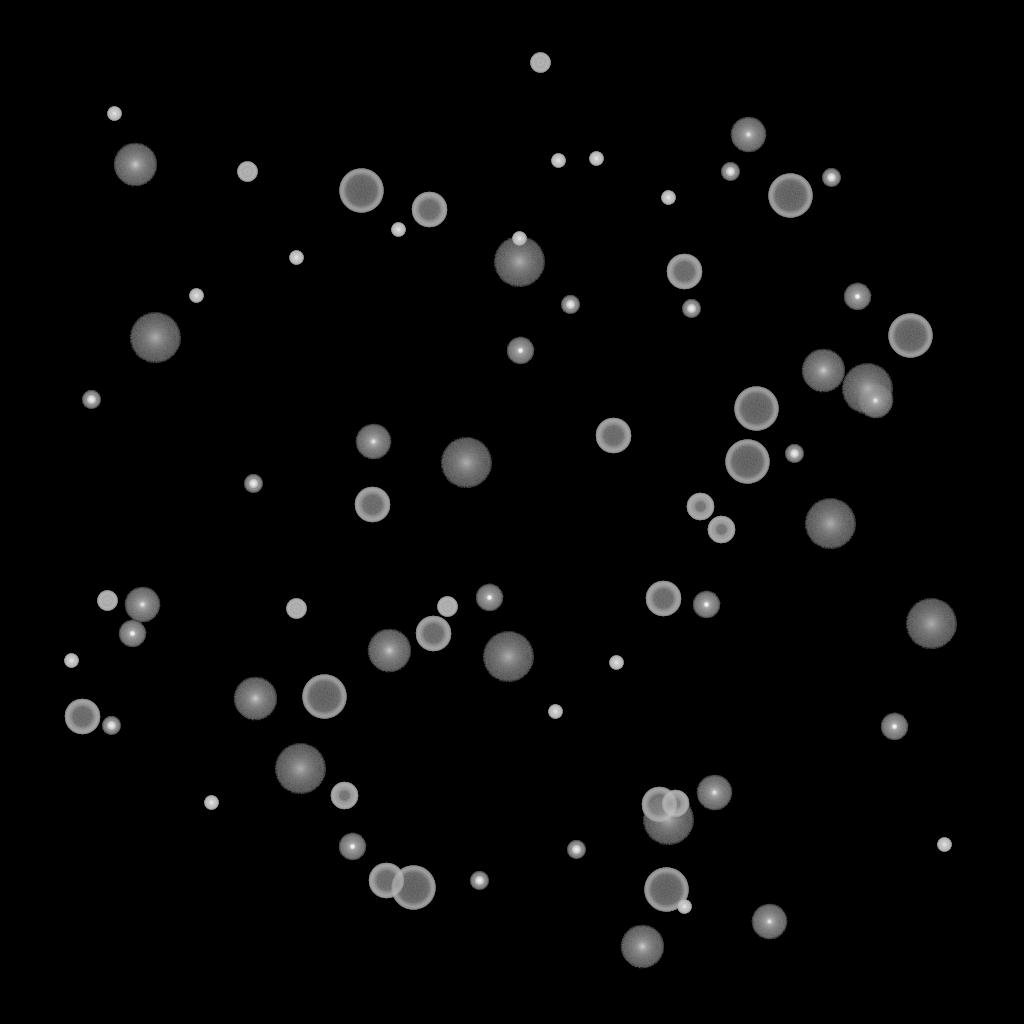depth:-10: (338, 833, 366, 861), (843, 283, 871, 311), (880, 713, 908, 741), (506, 337, 534, 365), (118, 620, 146, 648), (475, 584, 503, 612), (692, 591, 720, 619)
depth:-20: (561, 296, 579, 314), (82, 391, 100, 409), (822, 169, 840, 187), (682, 300, 700, 318), (244, 475, 262, 493), (721, 163, 739, 181), (470, 872, 488, 890), (785, 445, 803, 463), (102, 717, 120, 735), (567, 841, 585, 859)
depth:-30: (204, 796, 218, 810), (551, 154, 565, 168), (677, 900, 691, 914), (548, 705, 562, 719), (107, 107, 121, 121), (512, 232, 526, 246), (937, 838, 951, 852), (589, 152, 603, 166), (391, 223, 405, 237), (64, 654, 78, 668), (661, 191, 675, 205), (189, 289, 203, 303), (289, 251, 303, 265), (609, 656, 623, 670)
depth:-40: (286, 599, 306, 619), (437, 597, 457, 617), (530, 53, 550, 73), (237, 162, 257, 182), (97, 591, 117, 611)
depth:-50: (661, 790, 689, 818), (707, 516, 735, 544), (330, 782, 358, 810), (686, 493, 714, 521)
depth:-60: (595, 418, 631, 454), (411, 192, 447, 228), (645, 581, 681, 617), (368, 863, 404, 899), (64, 699, 100, 735), (415, 616, 451, 652), (666, 254, 702, 290), (641, 787, 677, 823), (354, 487, 390, 523)
depth:-70: (391, 866, 435, 910), (725, 440, 769, 484), (339, 169, 383, 213), (644, 868, 688, 912), (302, 675, 346, 719), (888, 314, 932, 358), (768, 174, 812, 218), (734, 387, 778, 431)
depth:0: (124, 587, 160, 623), (751, 904, 787, 940), (857, 383, 893, 419), (696, 775, 732, 811), (730, 117, 766, 153), (355, 424, 391, 460)
depth:10: (620, 925, 664, 969), (233, 677, 277, 721), (367, 629, 411, 673), (113, 143, 157, 187), (801, 349, 845, 393)
depth:20: (440, 438, 492, 488), (642, 795, 694, 845), (482, 632, 534, 682), (905, 599, 957, 649), (493, 237, 545, 287), (129, 313, 181, 363), (804, 499, 856, 549), (274, 744, 326, 794), (841, 364, 893, 414)
